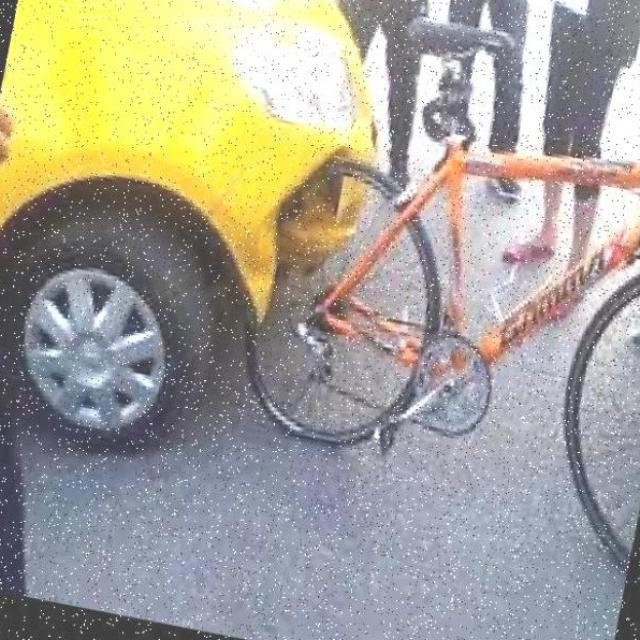accident: (124, 0, 640, 499)
